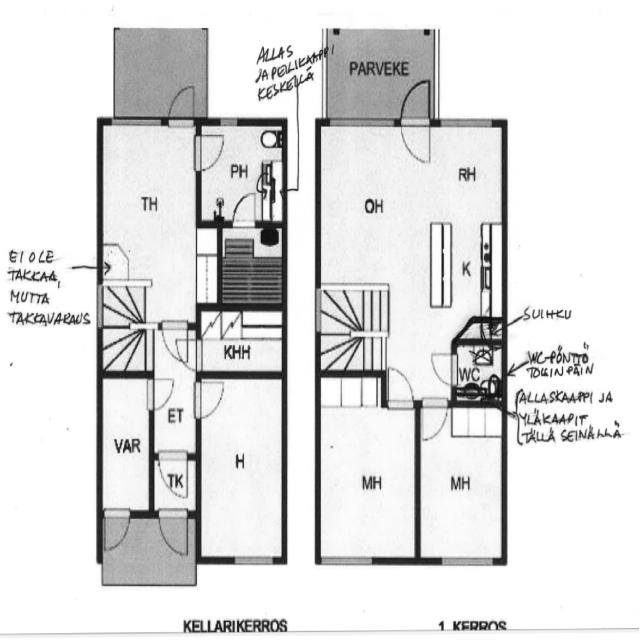door: (398, 76, 434, 169), (156, 450, 190, 501), (192, 377, 228, 422), (192, 132, 226, 175), (158, 508, 188, 556), (166, 81, 198, 126), (159, 318, 190, 364), (102, 508, 132, 553), (384, 366, 414, 410), (420, 398, 449, 443), (171, 334, 204, 373), (145, 374, 176, 414), (232, 189, 258, 230), (429, 350, 456, 387)
window: (327, 112, 398, 133), (437, 113, 497, 135), (106, 111, 168, 130), (318, 552, 378, 569), (439, 554, 496, 570), (230, 551, 275, 570), (91, 280, 105, 333), (310, 282, 323, 338), (216, 113, 242, 131)
zone: (316, 124, 506, 338), (98, 122, 197, 377), (318, 384, 416, 566), (199, 371, 284, 562), (419, 403, 505, 563), (198, 122, 287, 224), (101, 376, 151, 514), (218, 223, 286, 310), (199, 309, 286, 374), (454, 339, 504, 407)
